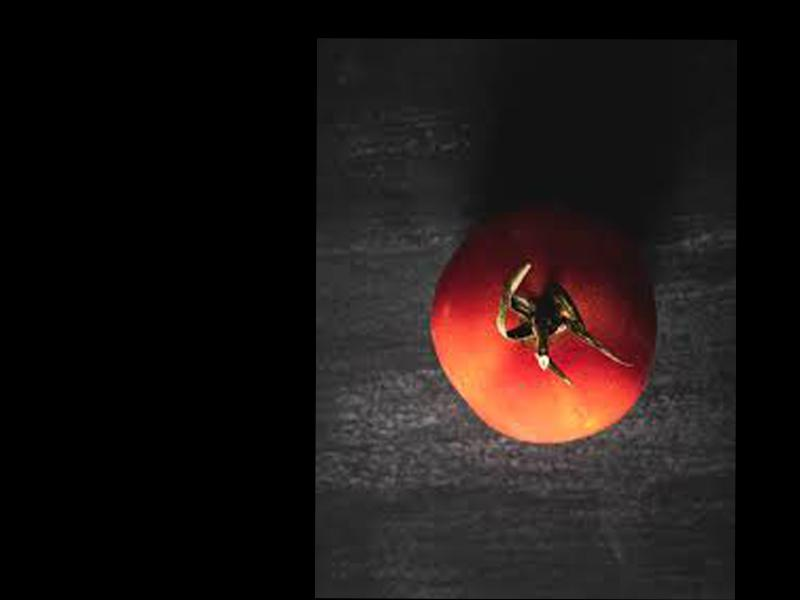Tomato: (430, 209, 654, 445)
